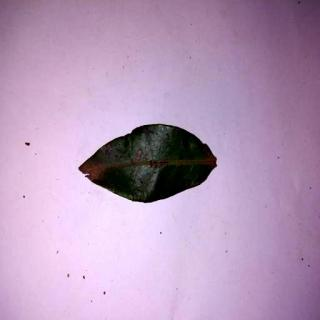Bird Eye Spot: (80, 123, 219, 205)
